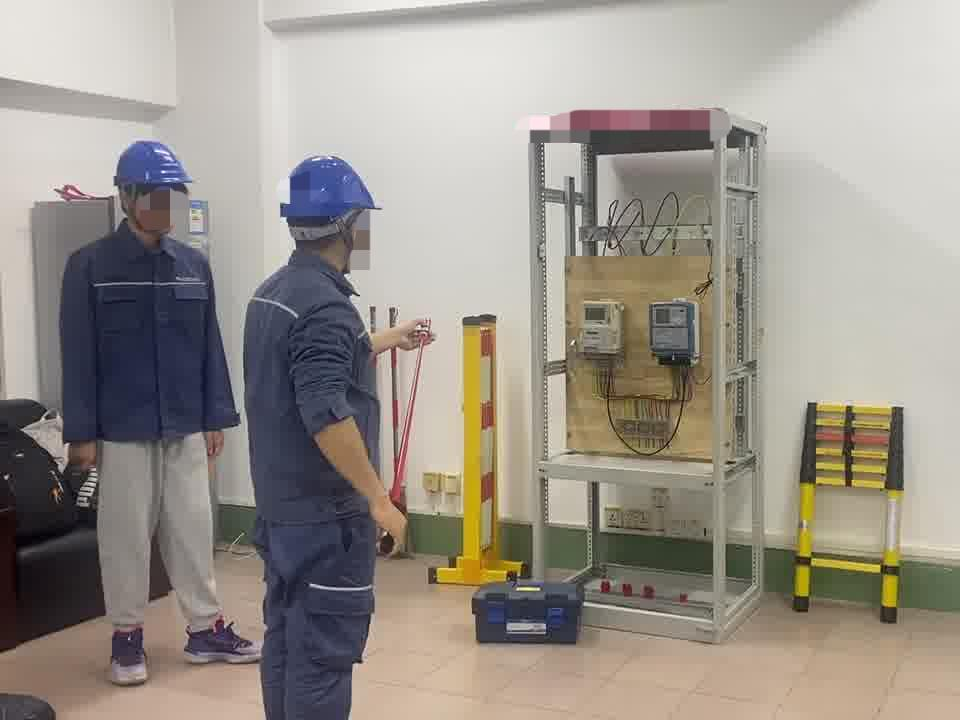halt: (280, 156, 384, 271), (115, 141, 196, 243)
inear: (334, 214, 366, 260), (117, 188, 148, 227)
